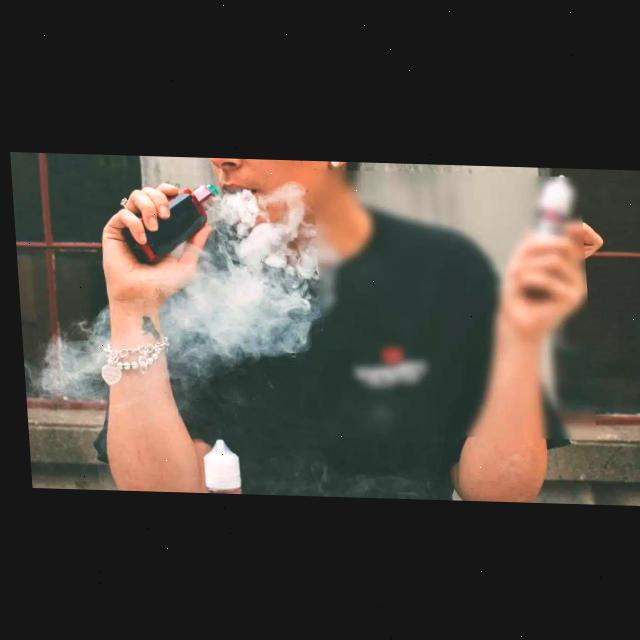vape: (115, 180, 222, 267)
